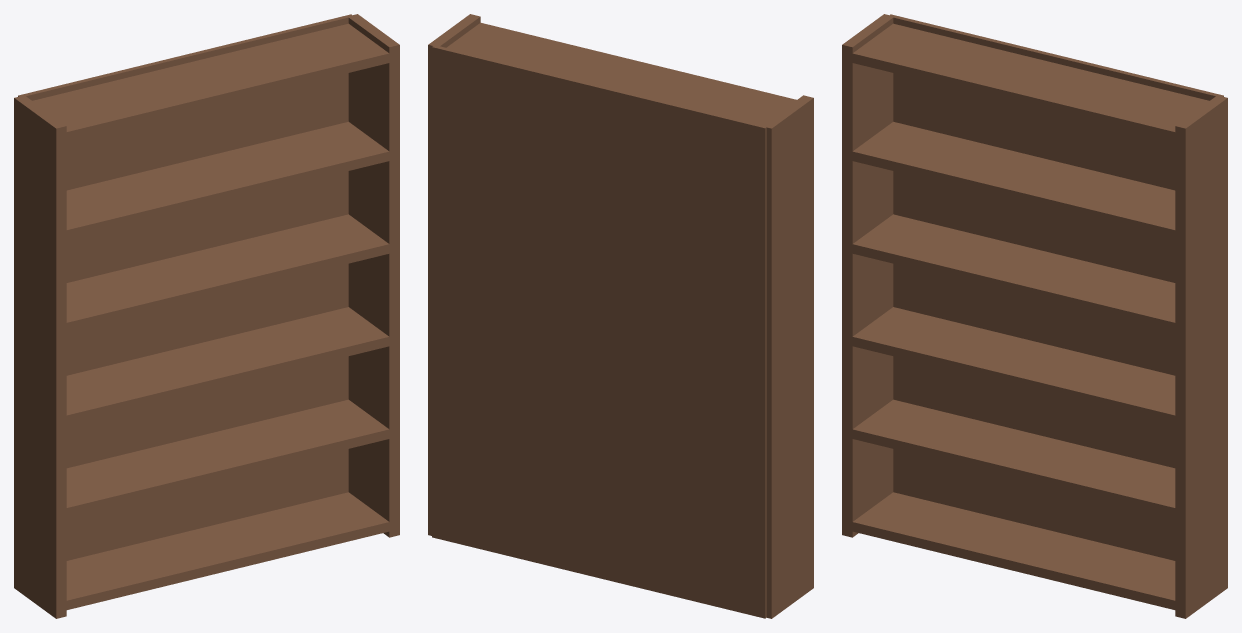
File: shelf.glb
3 renders of one model, left to right at view 1: azimuth 30°, elevation 25°; view 2: azimuth 150°, elevation 25°; view 3: azimuth 330°, elevation 25°, orthographic.
Visible parts, largest first — view 1: shelf; view 2: shelf; view 3: shelf.
Part boxes in pixels (x1,y1,x2,y2): shelf: (14, 14, 399, 618); shelf: (428, 14, 813, 618); shelf: (842, 14, 1227, 618).
Bounding box in the file's own units: 1.32 × 1.8 × 0.289.
